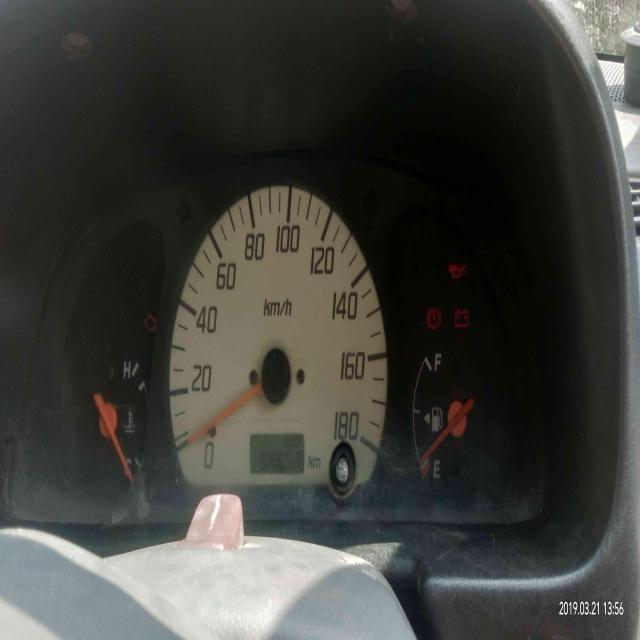Braking System Issue: (426, 308, 442, 330)
Charging System Issue: (454, 308, 470, 328)
Check Engine: (144, 313, 158, 331)
Low Engine Oil Warning Light: (448, 262, 468, 278)
